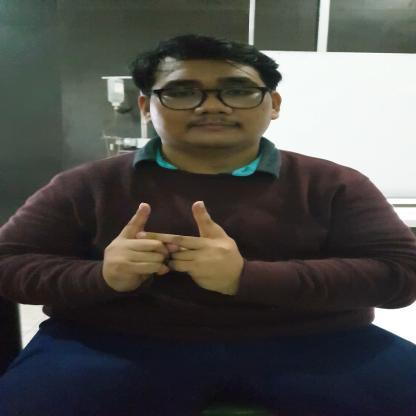H: (96, 197, 244, 294)
